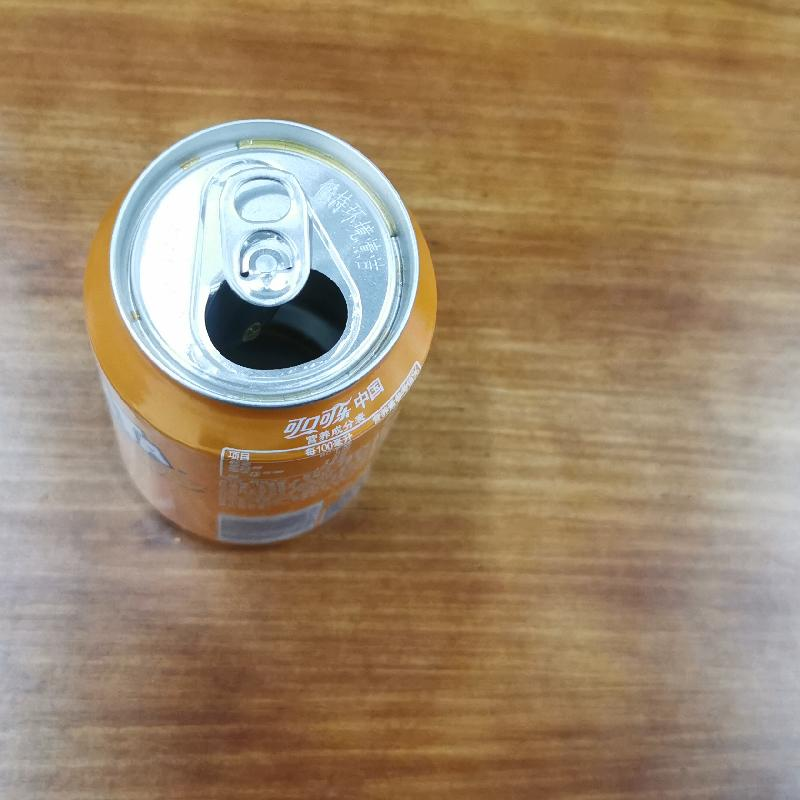cans: (79, 113, 439, 552)
